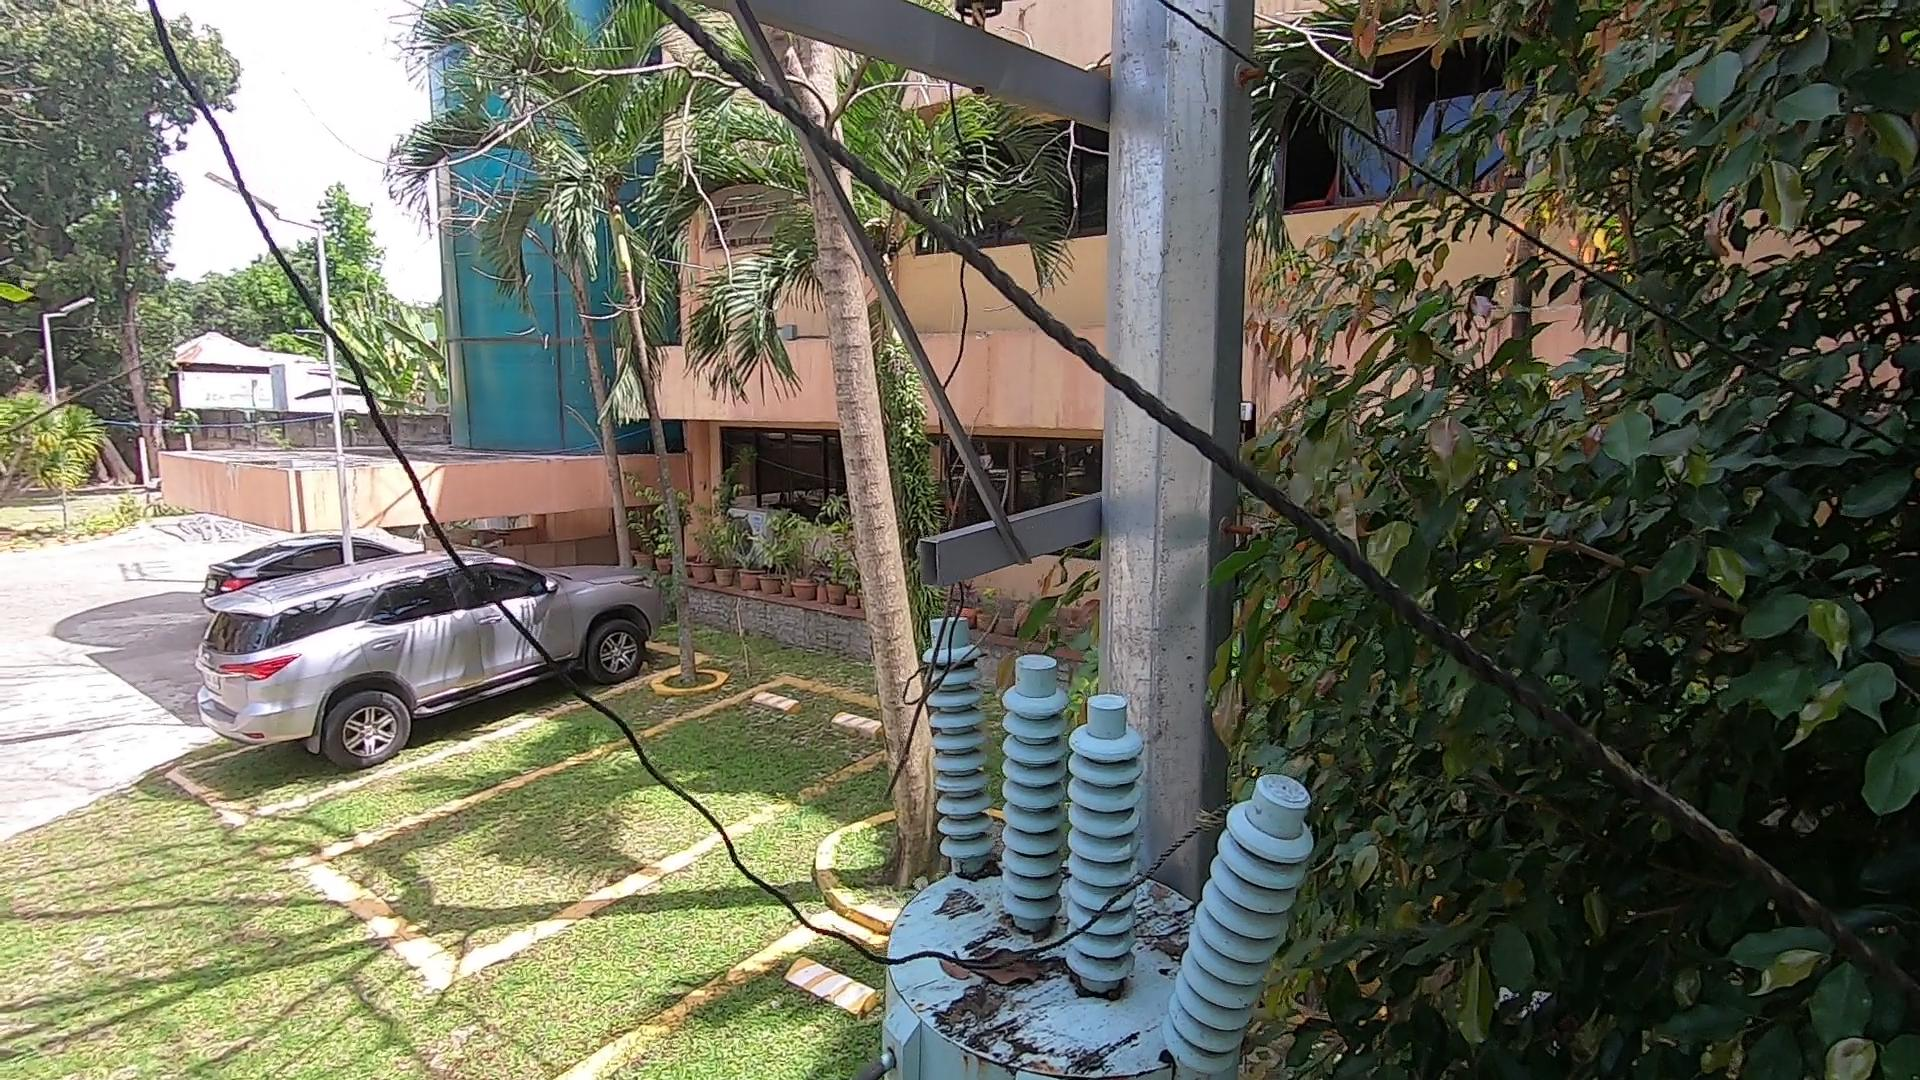leaf: (926, 942, 1054, 1002), (956, 857, 1001, 885)
tree branch: (884, 386, 969, 816)
